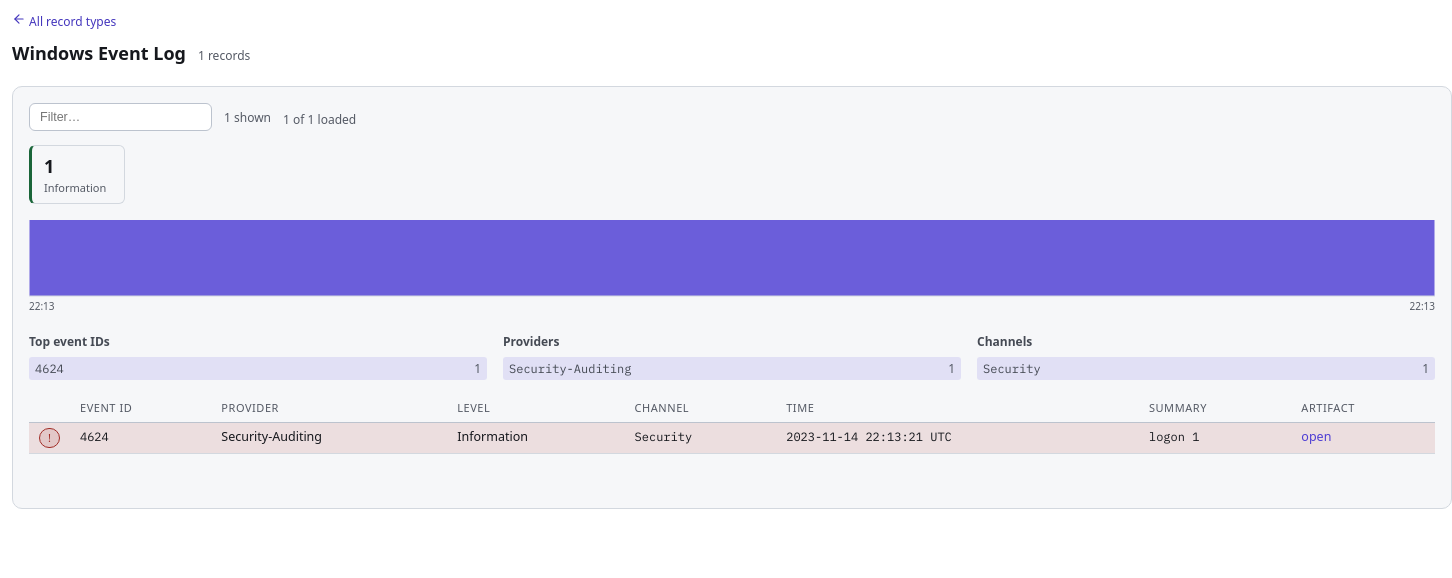
rich record viewer: how the match was made › quotes an unfamiliar q_match rather than describing one it does not know
The width and height of the screenshot is (1452, 578).
Type "logon" into the field named "Filter " at (120, 118), box [29,104,212,132]
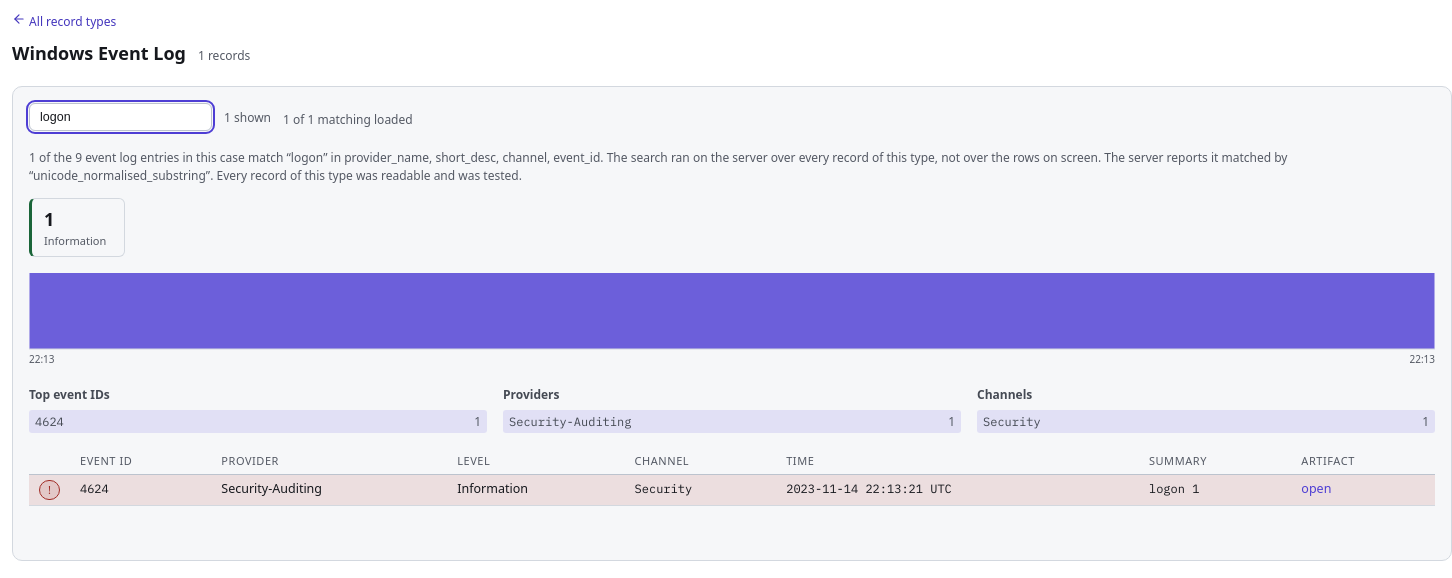
Result: the text with test id "rv-search-scope" shows "unicode_normalised_substring" at [33,167,206,184]
